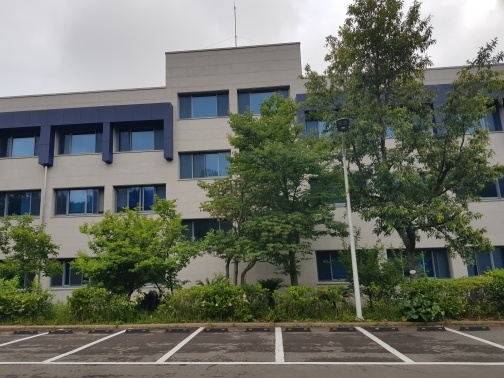College of Social Sciences: (9, 36, 501, 299)
